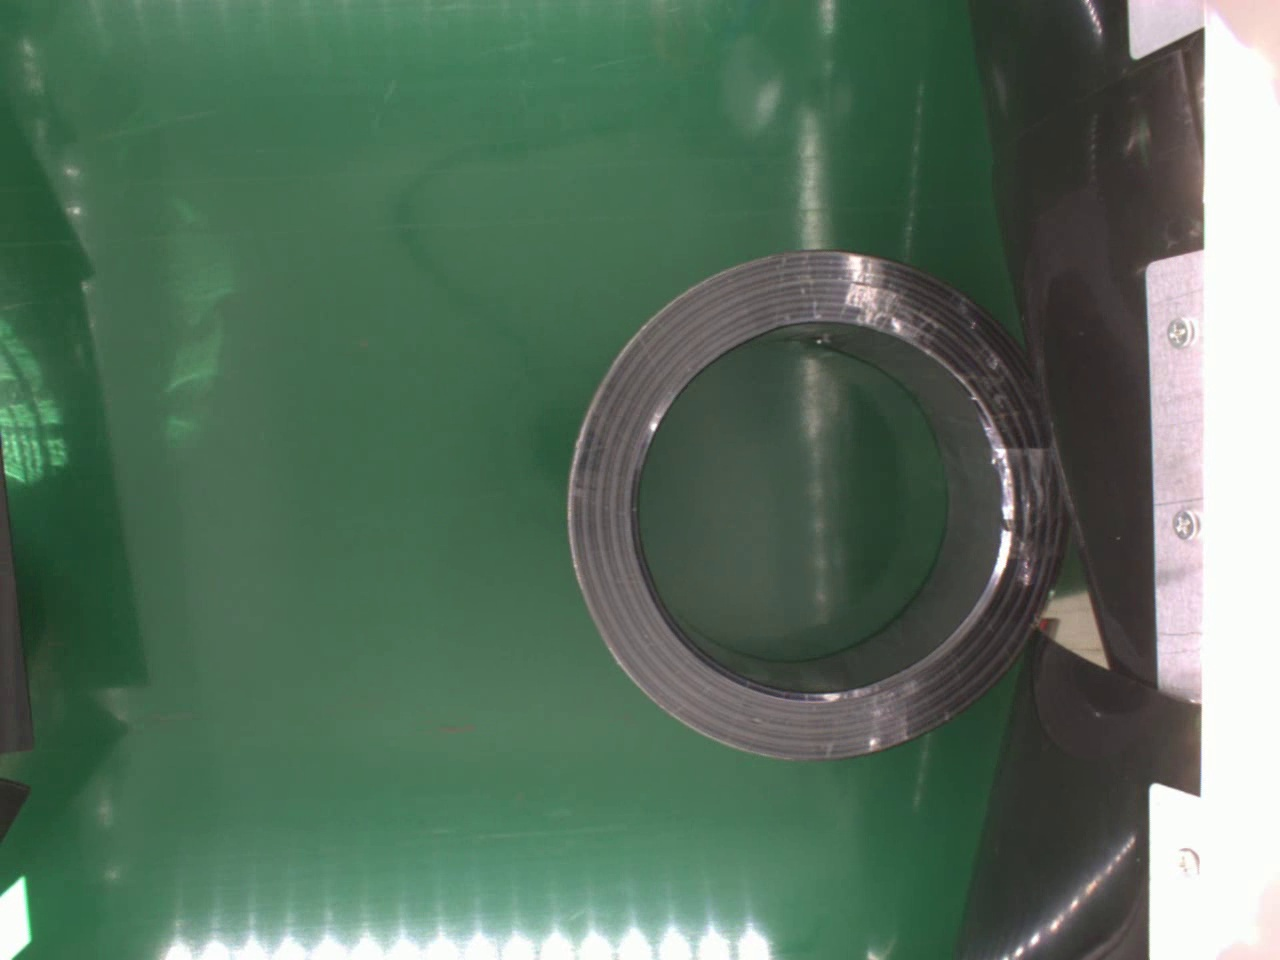black: (564, 248, 1064, 764)
